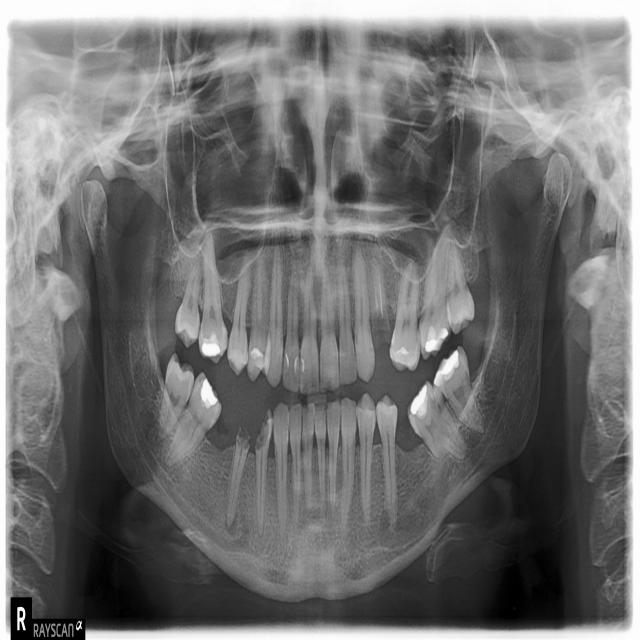mandibula: (79, 147, 573, 603)
